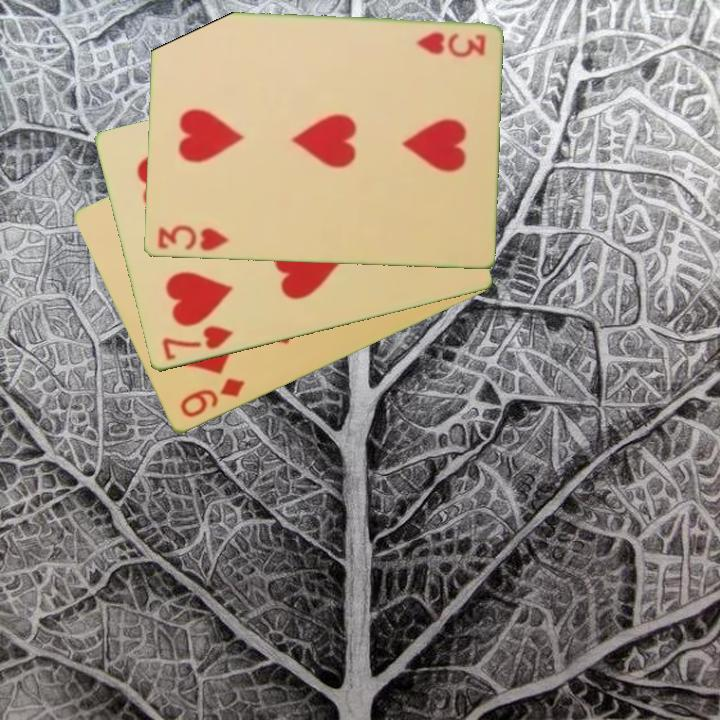3h: (154, 221, 232, 255), (412, 29, 488, 59)
7h: (158, 322, 237, 364)
9d: (176, 375, 248, 421)
